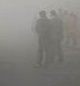person: (34, 10, 54, 68), (47, 9, 66, 66), (64, 11, 78, 46)
